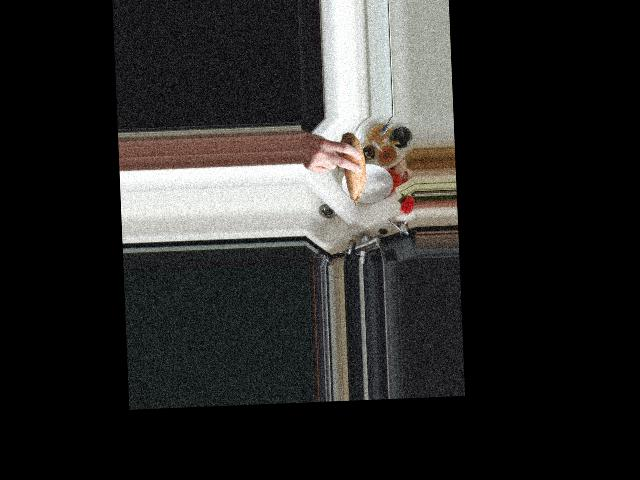sweet_potato: (336, 129, 366, 209)
